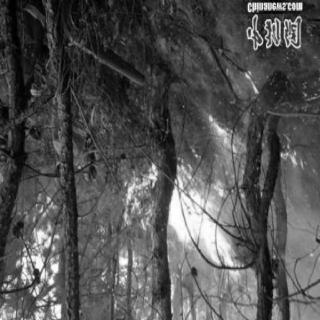Fire: (168, 158, 244, 292), (118, 159, 160, 235), (203, 114, 246, 163), (277, 137, 306, 175), (240, 70, 259, 99)
other: (58, 15, 150, 84), (19, 15, 49, 147), (244, 9, 306, 65), (67, 94, 97, 178), (1, 51, 14, 128), (49, 104, 59, 162)
